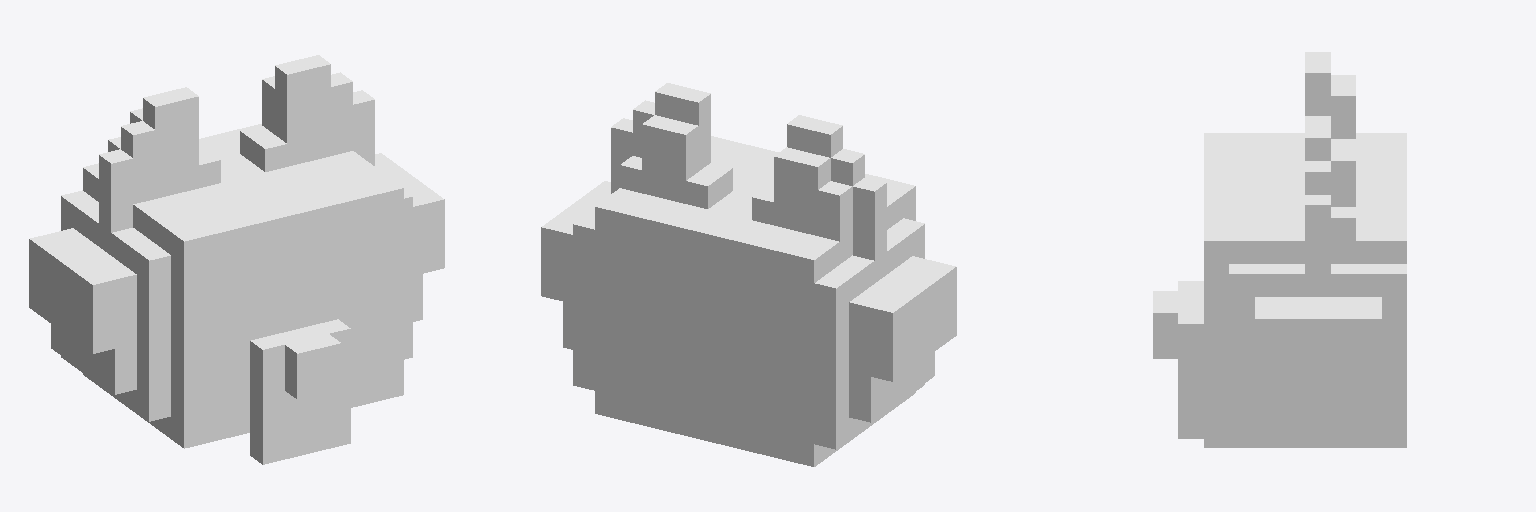
File: robbie-head.obj
3 renders of one model, left to right at view 1: azimuth 30°, elevation 25°; view 2: azimuth 150°, elevation 25°; view 3: azimuth 270°, elevation 25°, orthographic.
Parts seen in each view (by area): view 1: robbie-head; view 2: robbie-head; view 3: robbie-head.
Boxes of the visible parts, x1=… form: robbie-head: x1=29, y1=55, x2=444, y2=464; robbie-head: x1=541, y1=83, x2=956, y2=466; robbie-head: x1=1153, y1=52, x2=1406, y2=447.
Size of the model in its own units: 16 by 14 by 10.